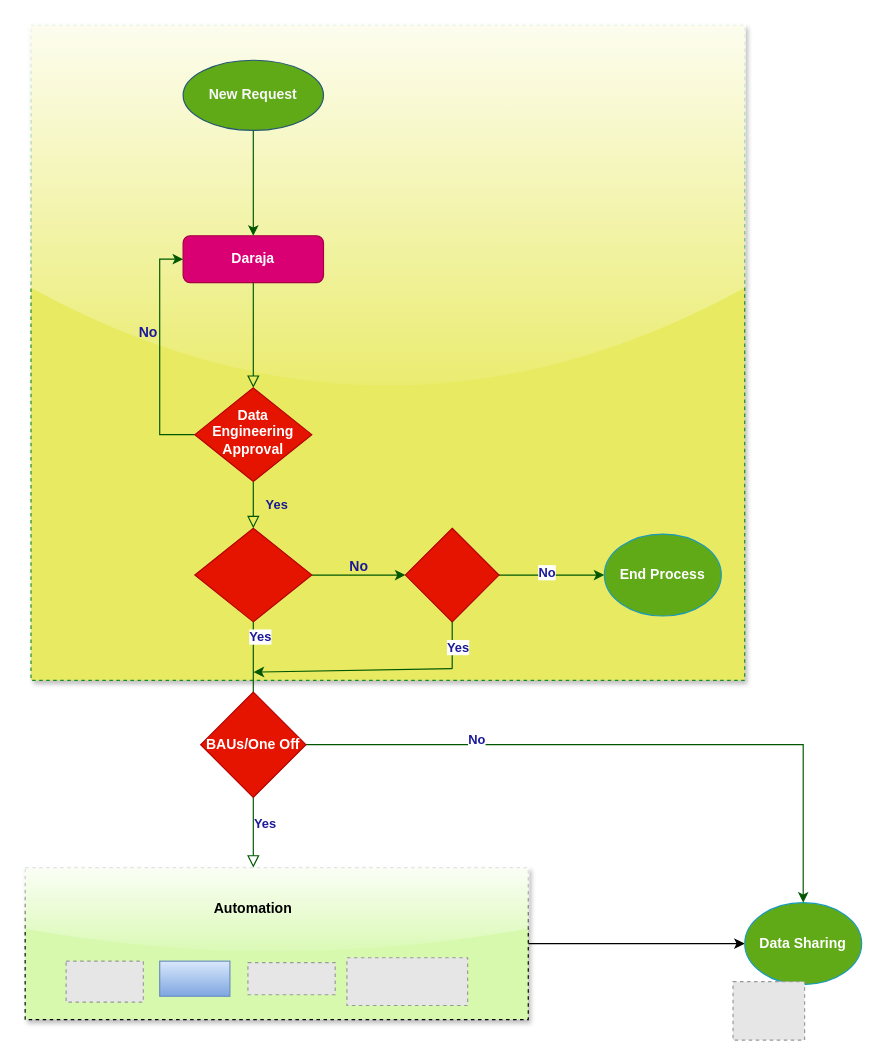
Image size: 882x1061. Some labels were removed from this diagram. Grey dashed boxes stand in for pictures. Each missing label, with the centre of its shape:
"Data Governance Approval" belongs at point 451,574.
"Internal /External Request" belongs at point 253,574.
"Sqream Sqloader" belongs at point 194,978.
